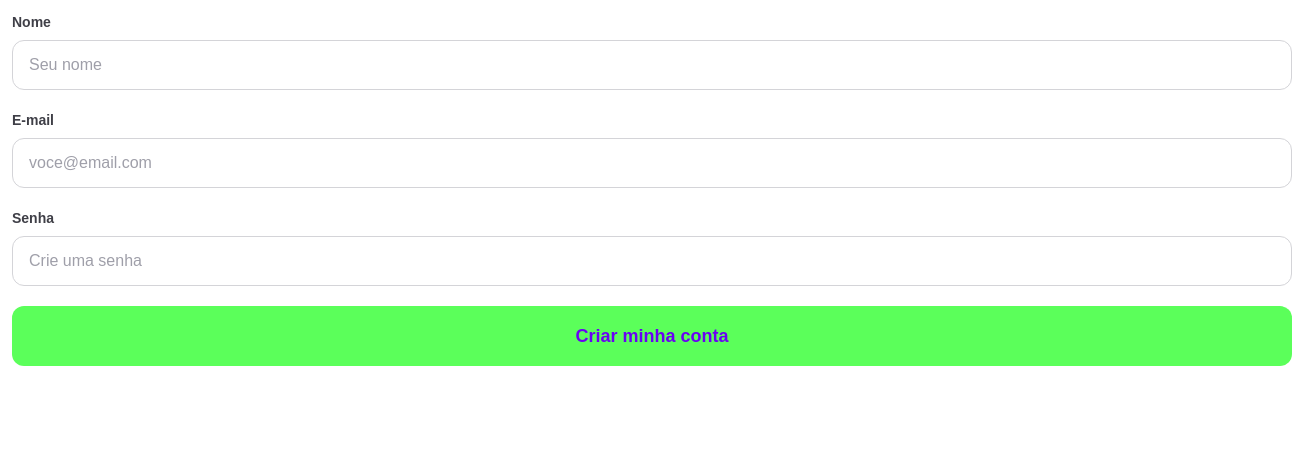
Test: SignupForm › exibe erro quando tenta cadastrar sem preencher os campos
Click the button "Criar minha conta" at (652, 336), box x1=12 y1=306 x2=1292 y2=366
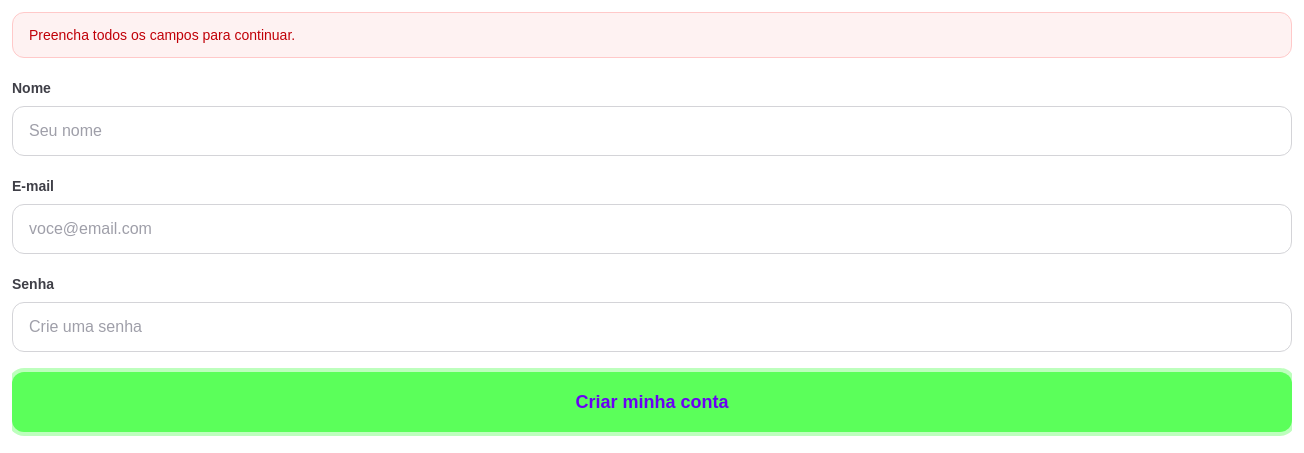
Result: the text "Preencha todos os campos para continuar." is shown at x1=12 y1=12 x2=1292 y2=58
